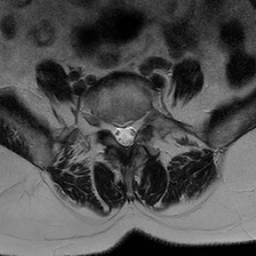CCS_normal: (121, 115, 129, 154)
LFS_normal: (137, 107, 145, 138)
LLS_normal: (129, 114, 137, 148)
RFS_normal: (105, 110, 113, 140)
RLS_normal: (113, 114, 121, 149)
